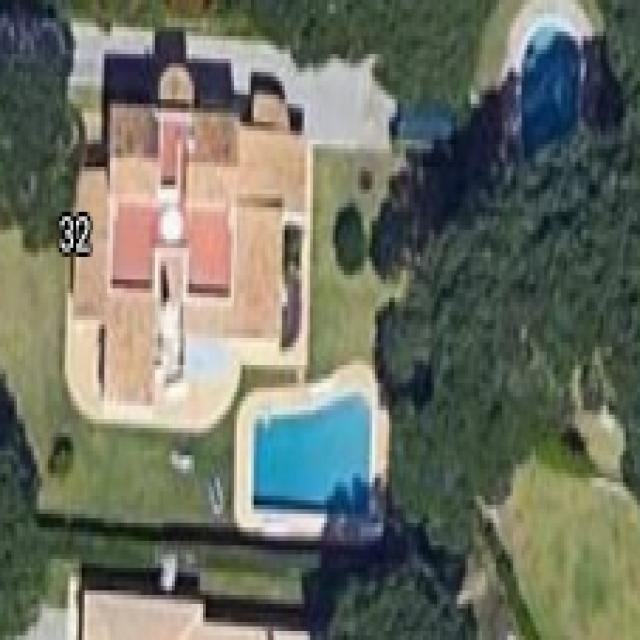pool: (240, 366, 384, 542), (510, 17, 589, 174)
